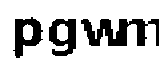g: (47, 15, 78, 59)
m: (119, 15, 160, 51)
p: (9, 14, 44, 60)
w: (78, 15, 127, 49)
